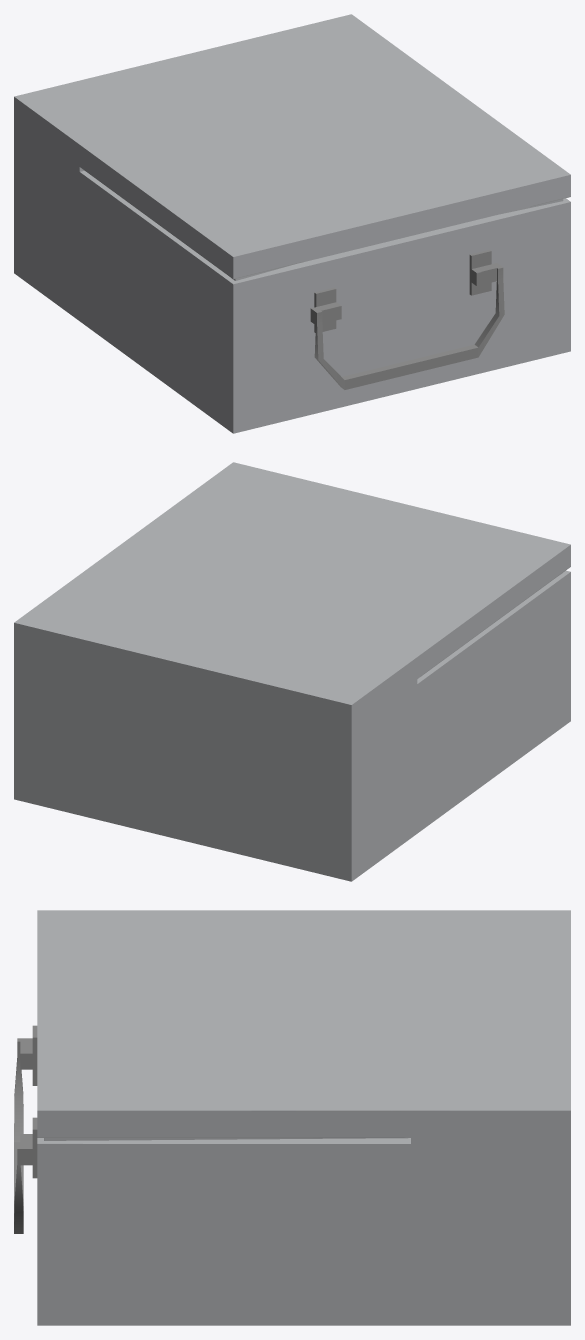
Rendered from Safety_Box_Close.fbx.
3 renders of one model, top to bottom at view 1: azimuth 30°, elevation 25°; view 2: azimuth 150°, elevation 25°; view 3: azimuth 270°, elevation 25°, orthographic. The views are drawn at different scales.
Parts seen in each view (by area): view 1: Safety_Box_Close; view 2: Safety_Box_Close; view 3: Safety_Box_Close.
Boxes of the visible parts, x1,y1,x2,y2 form: Safety_Box_Close: (14, 14, 570, 433); Safety_Box_Close: (14, 462, 570, 881); Safety_Box_Close: (14, 910, 570, 1325).
Size of the model in its own units: 0.3835 by 0.1918 by 0.4502.
Materials: 1 (1 with a texture image).
